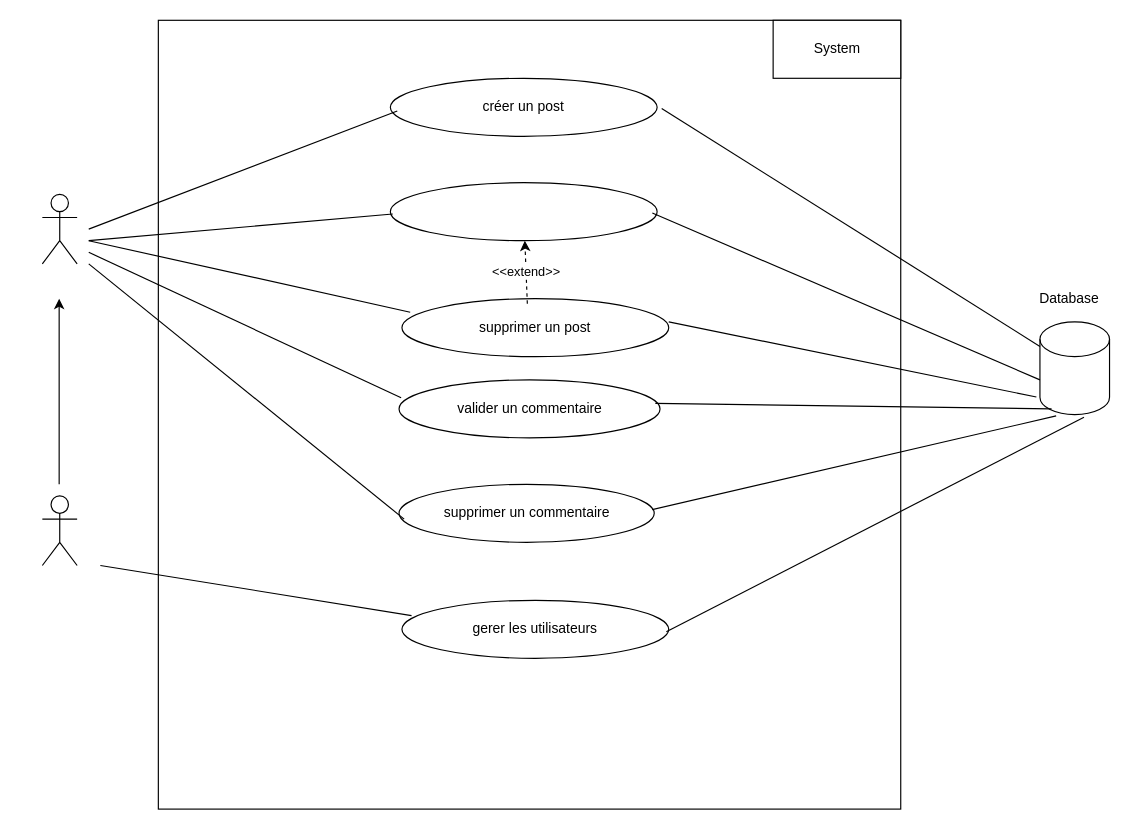
The diagram is 1130 pixels wide and 829 high, and some of its shapes have lost their labels. The shapes that lost their labels are listed below. From the top down, each one's box as (x1, y1, x2, y2) in pixels, then its label:
(41, 193, 77, 264): Admin
(389, 182, 657, 241): modifier un post
(41, 495, 77, 566): Super Admin
